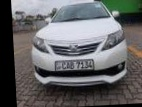car: (26, 0, 134, 95)
